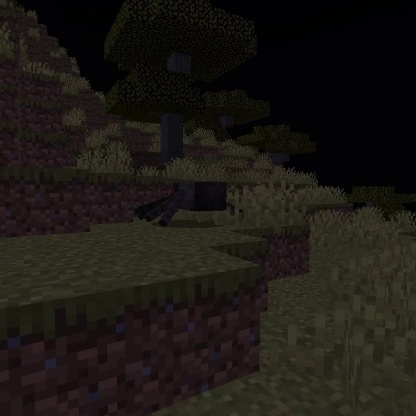spider: (133, 179, 234, 231)
